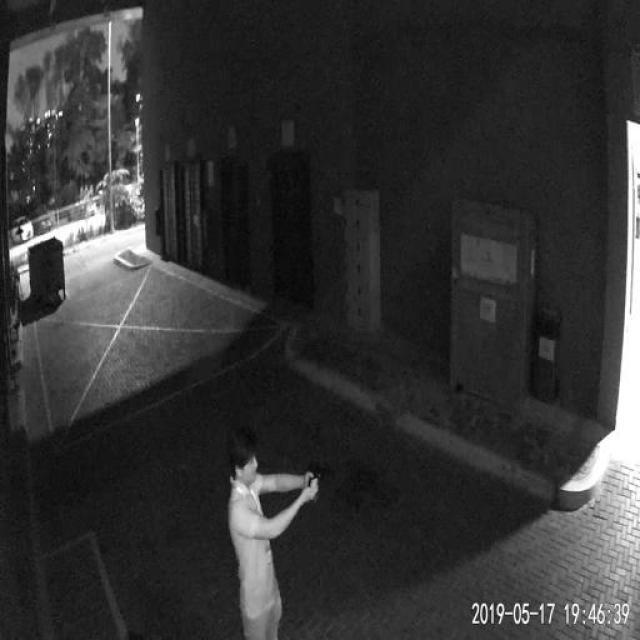Gun: (304, 460, 332, 491)
